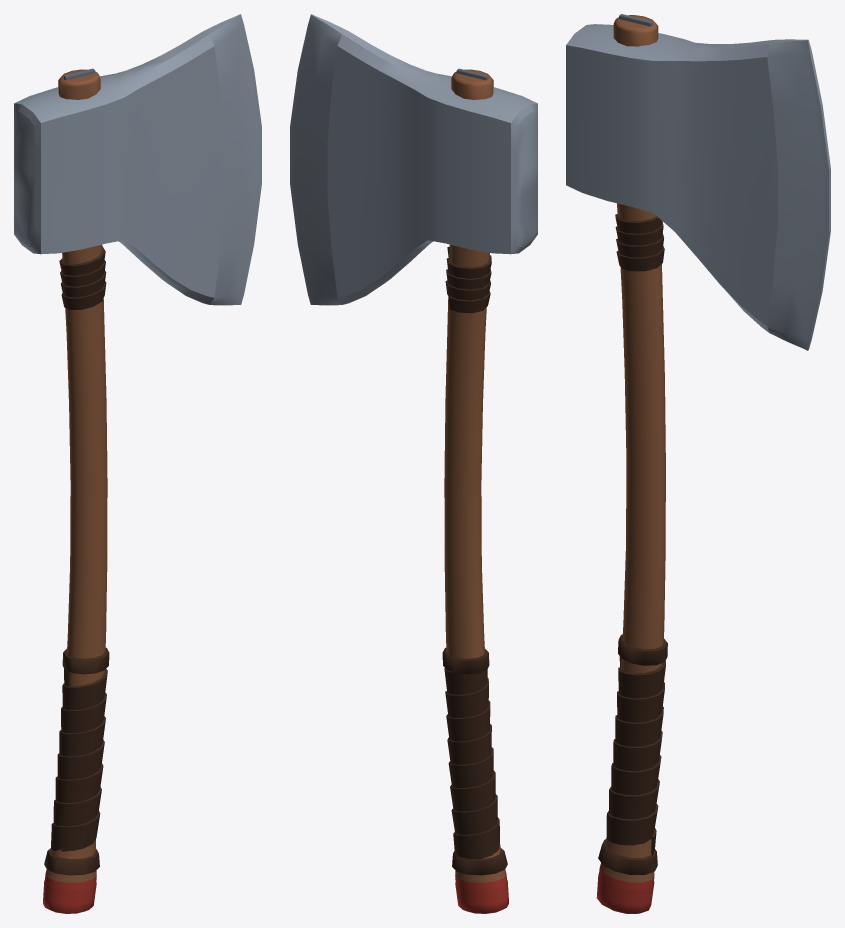
Rendered from Axe.fbx.
The picture shows the model from 3 angles, left to right: view 1: azimuth 30°, elevation 25°; view 2: azimuth 150°, elevation 25°; view 3: azimuth 330°, elevation 25°; orthographic projection. The views are drawn at different scales.
Parts seen in each view (by area): view 1: Axe_Head, Axe_Handle, Axe_Wrap, Axe_HandleEnd; view 2: Axe_Head, Axe_Handle, Axe_Wrap, Axe_HandleEnd; view 3: Axe_Head, Axe_Handle, Axe_Wrap, Axe_HandleEnd.
Boxes of the visible parts, x1,y1,x2,y2 form: Axe_Head: (14, 14, 261, 305); Axe_Handle: (45, 69, 107, 882); Axe_Wrap: (44, 246, 109, 875); Axe_HandleEnd: (43, 874, 96, 913); Axe_Head: (290, 14, 537, 305); Axe_Handle: (444, 69, 506, 882); Axe_Wrap: (442, 246, 507, 875); Axe_HandleEnd: (455, 874, 508, 913); Axe_Head: (566, 24, 830, 350); Axe_Handle: (599, 15, 665, 882); Axe_Wrap: (598, 214, 667, 874); Axe_HandleEnd: (596, 868, 654, 913).
Size of the model in its own units: 24.66 by 84.19 by 5.49.
